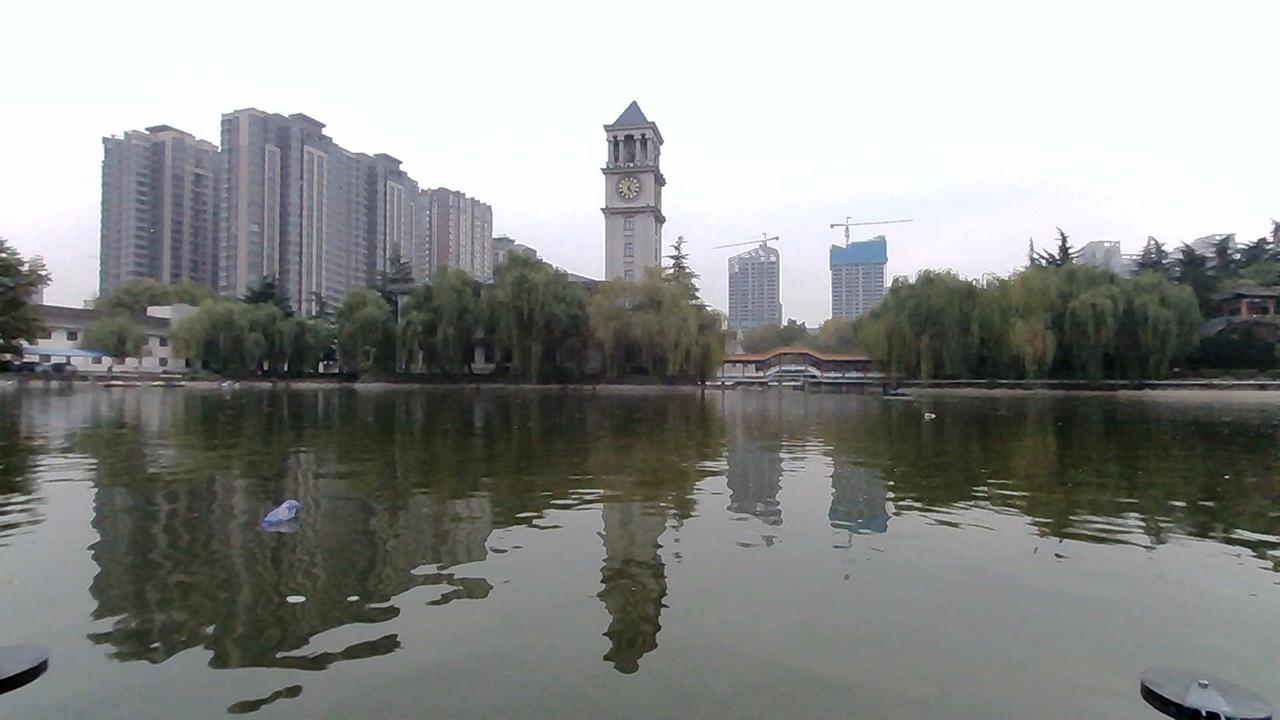bottle: (246, 494, 324, 541), (906, 401, 952, 425)
